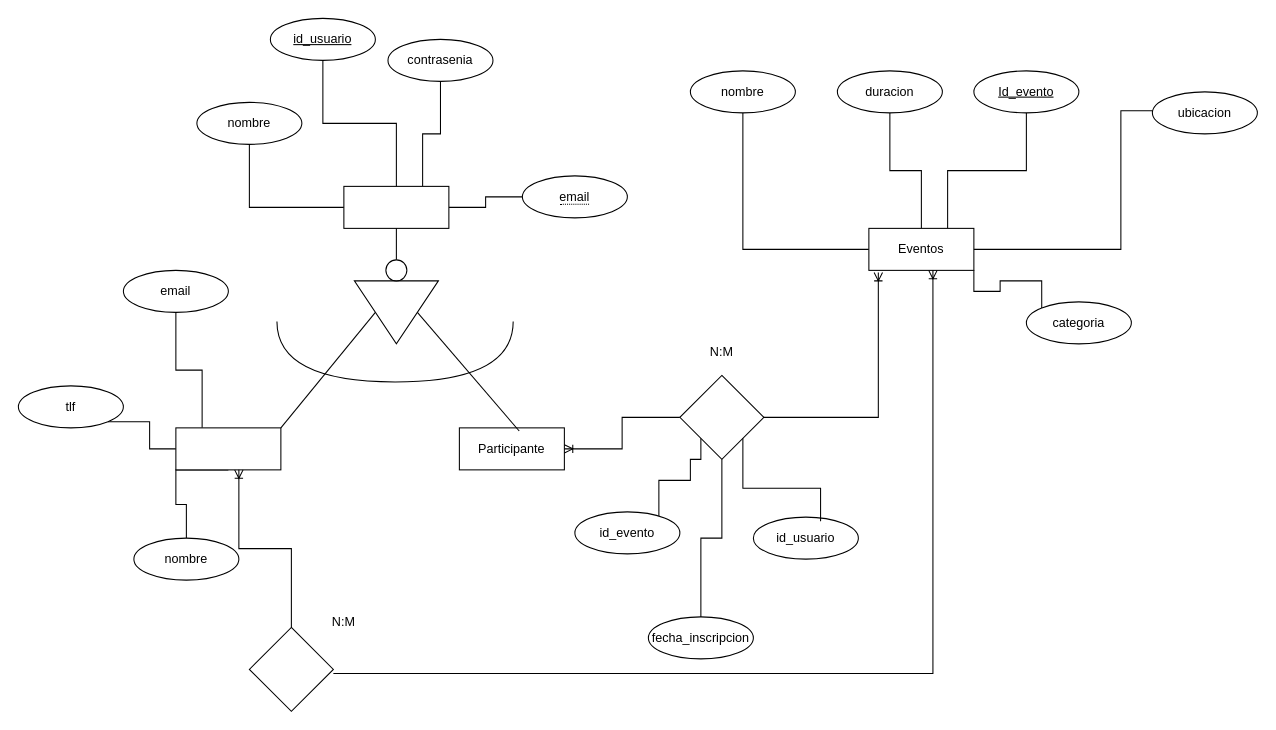
Some shapes in this 1276 by 730 pixel diagram are drawn without their labels. Here are the shapes that lost their labels. From the top down, the box of each, then its label:
(343, 185, 449, 228): Usuario
(679, 374, 764, 459): tiene
(175, 427, 281, 470): Organizadores
(248, 626, 333, 711): organiza
